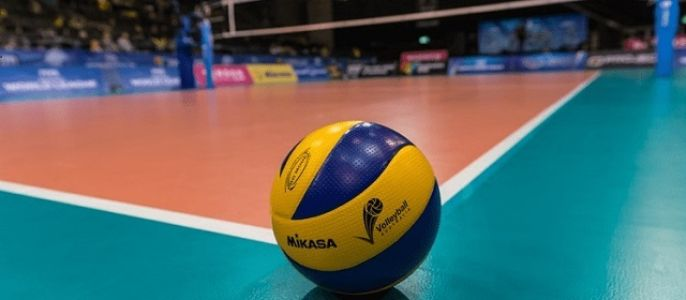voleibol: (272, 120, 441, 295)
